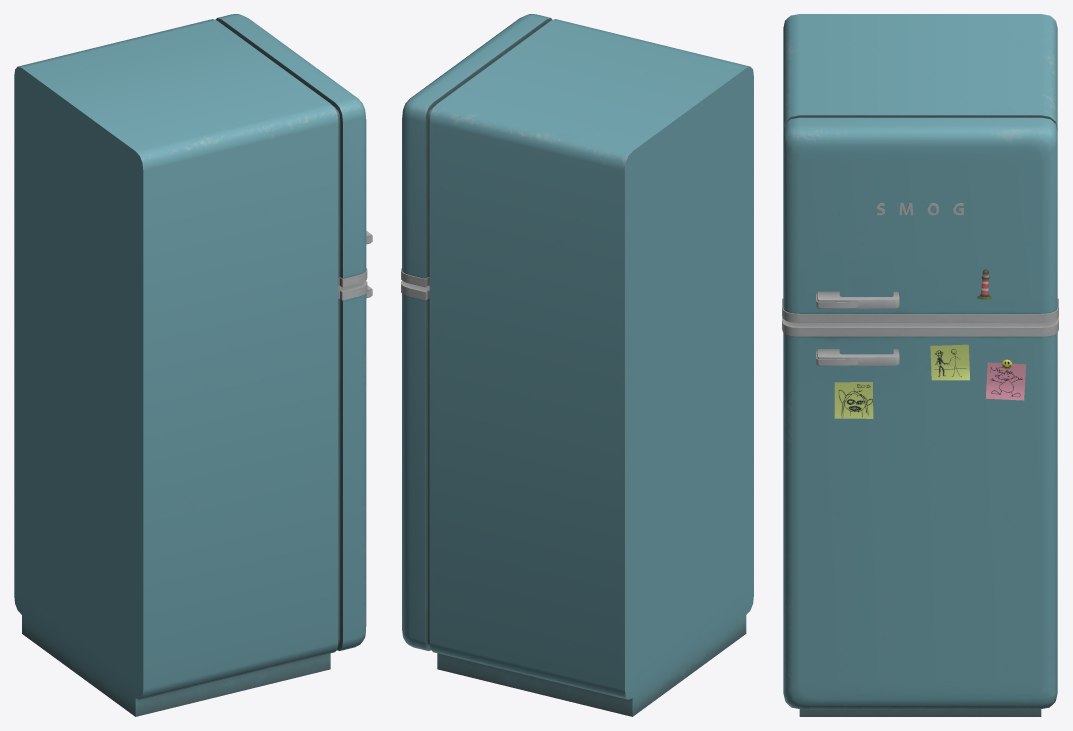
File: fridge.dae
3 views of the same model, side by side, from view 1: azimuth 30°, elevation 25°; view 2: azimuth 150°, elevation 25°; view 3: azimuth 270°, elevation 25° (orthographic). The views are drawn at different scales.
Parts seen in each view (by area): view 1: body_low; view 2: body_low; view 3: body_low.
Part boxes in pixels (x1=…): body_low: x1=14, y1=14, x2=372, y2=716; body_low: x1=401, y1=14, x2=753, y2=716; body_low: x1=782, y1=14, x2=1058, y2=716.
Size of the model in its own units: 78.85 by 72.06 by 173.
Materials: 1 (1 with a texture image).
